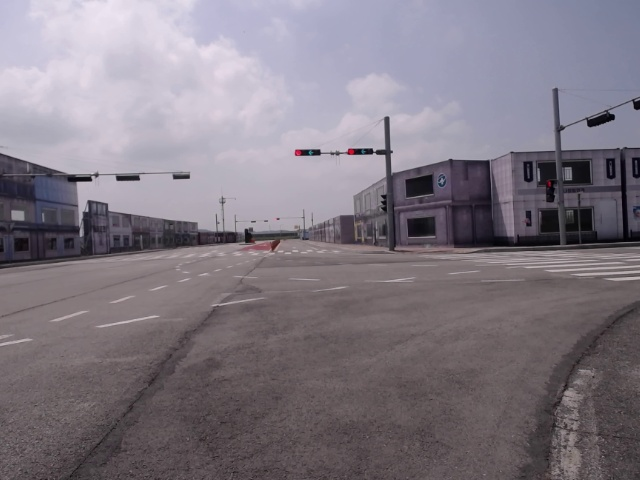left_green_4: (295, 149, 321, 156), (348, 148, 373, 155)
